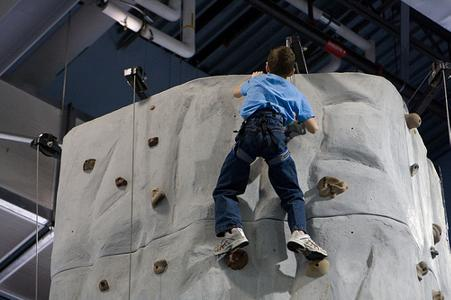person: (213, 44, 328, 261)
